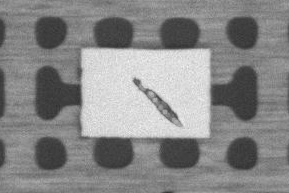DIE_INK: (190, 47, 280, 87)
